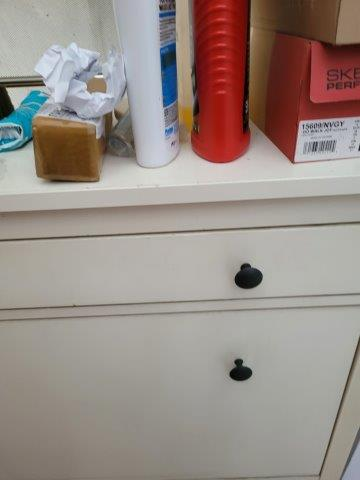kardus: (248, 3, 360, 156), (31, 117, 98, 185)
kertas: (38, 43, 128, 114)
